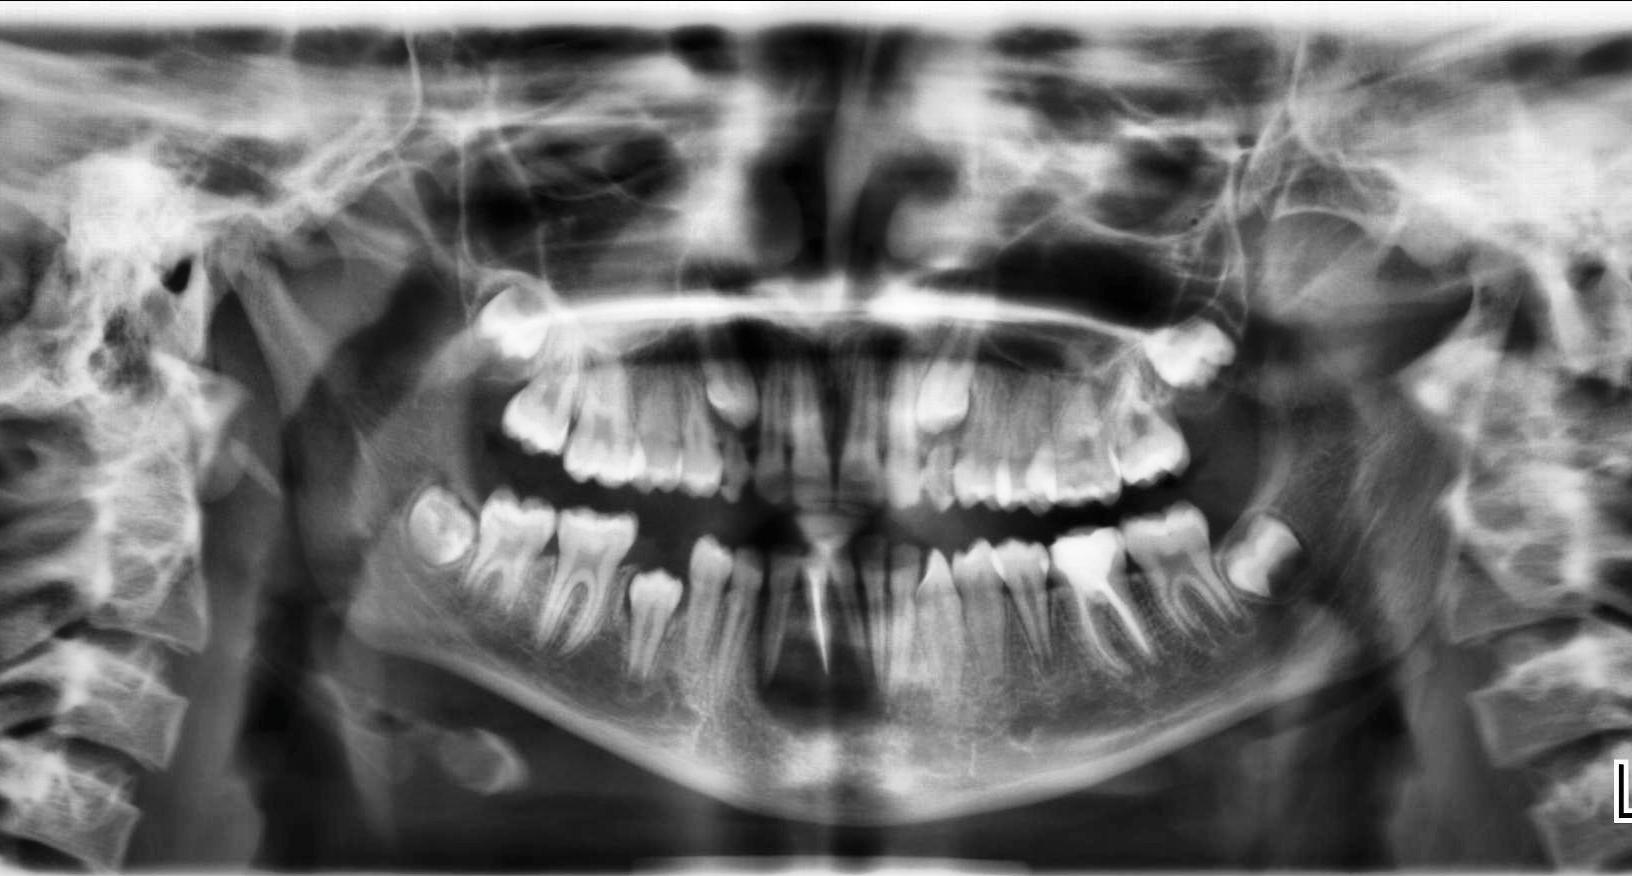radikuler: (753, 634, 890, 744)
